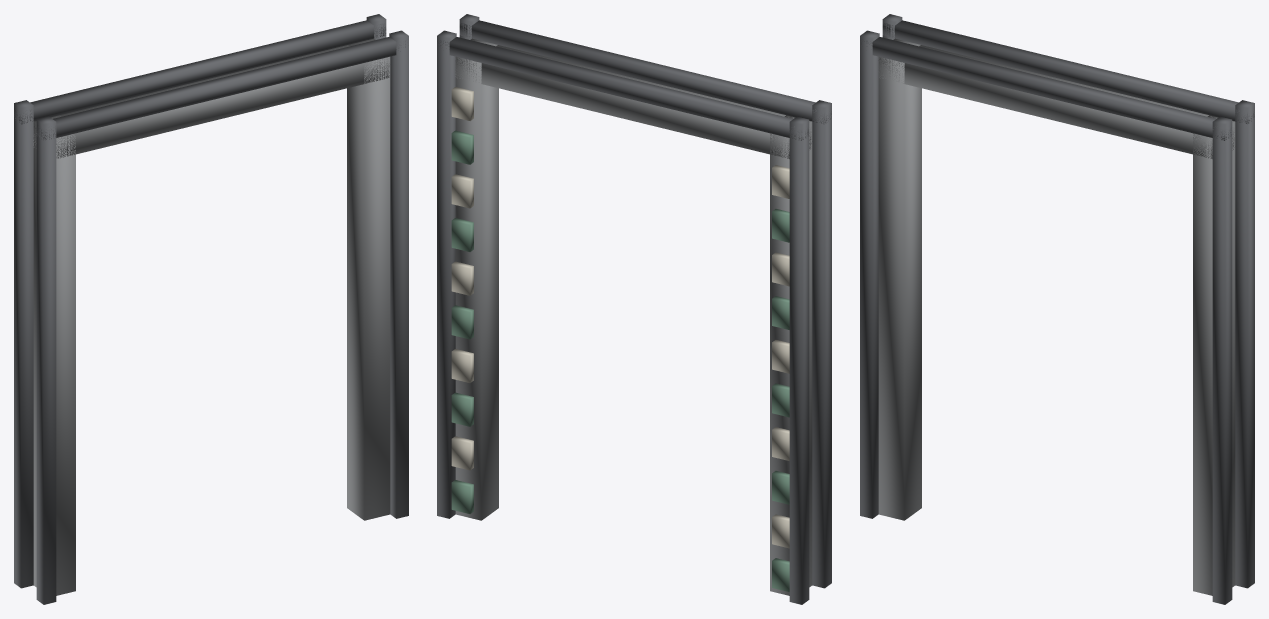
The model's file is doorway_tile_return_w152_h220_d16.glb.
3 views of the same model, side by side, from view 1: azimuth 30°, elevation 25°; view 2: azimuth 150°, elevation 25°; view 3: azimuth 330°, elevation 25° (orthographic).
Visible parts, largest first — view 1: world; view 2: world; view 3: world.
Boxes of the visible parts, x1,y1,x2,y2 form: world: [14, 14, 408, 604]; world: [437, 14, 831, 604]; world: [860, 14, 1254, 604].
Size of the model in its own units: 1.92 by 2.42 by 0.2716.
